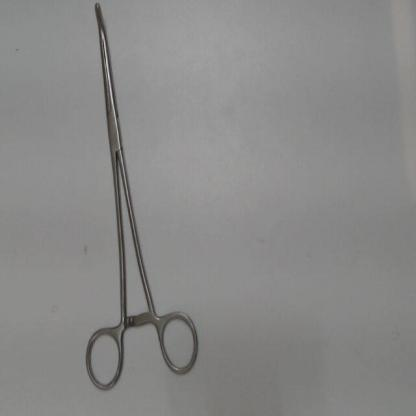Lahey Forceps: (78, 3, 206, 397)
